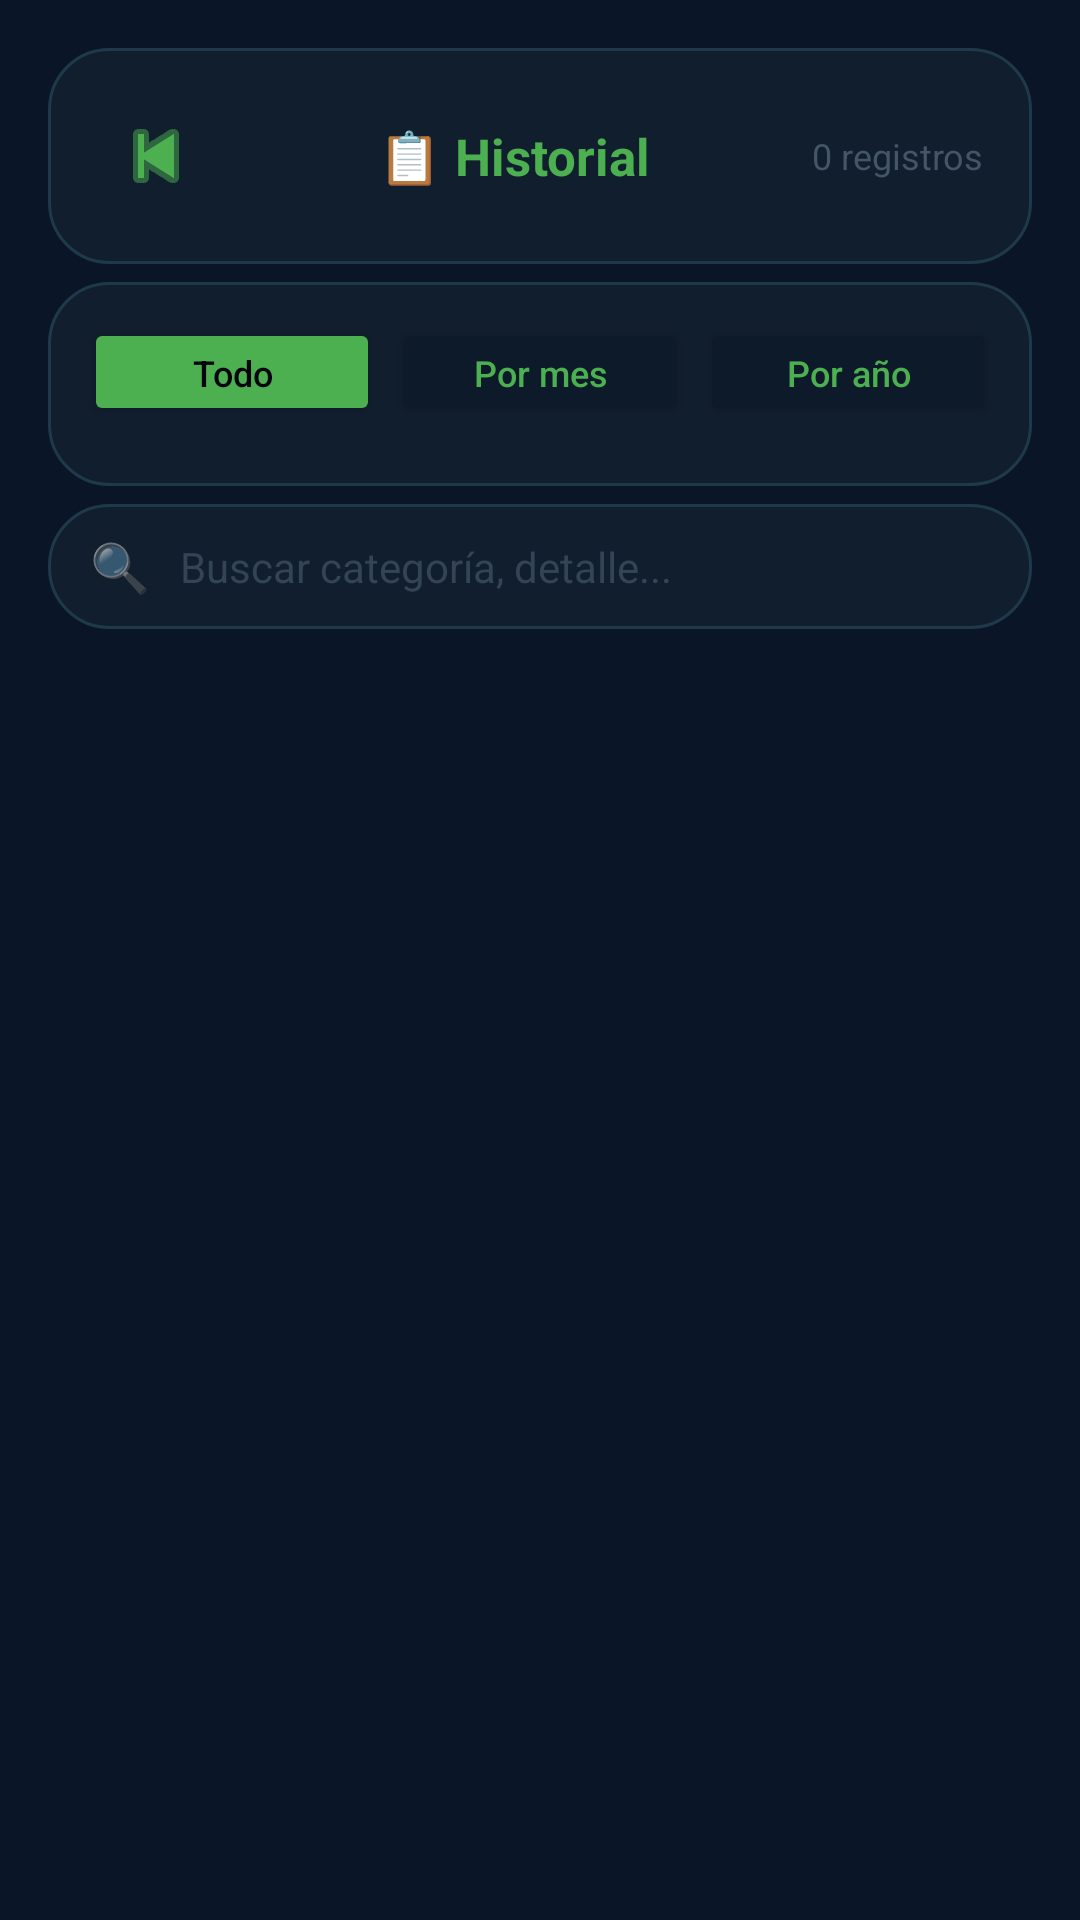

Icons on this 1080×1920 Android screen, each with the point to tap as point (x, y):
previous: point (156, 156)
